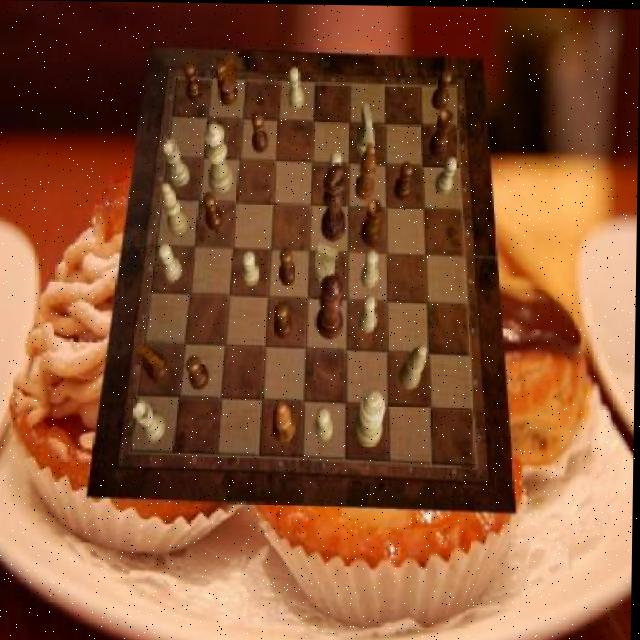bishop: (355, 143, 375, 201), (274, 399, 297, 443)
black-bishop: (320, 162, 346, 243)
black-king: (137, 342, 170, 382), (214, 53, 238, 106)
black-knight: (186, 354, 210, 389), (431, 70, 452, 110), (182, 62, 202, 104), (203, 192, 224, 230), (394, 161, 414, 200), (251, 111, 268, 152), (275, 302, 293, 338), (280, 248, 297, 286)
black-pawn: (317, 274, 344, 339)
black-queen: (430, 108, 454, 157), (359, 198, 382, 244)
black-rook: (161, 182, 189, 236), (399, 343, 427, 389)
white-bishop: (355, 387, 387, 446)
white-king: (314, 242, 337, 288), (355, 103, 374, 157)
white-knight: (158, 244, 182, 282), (435, 156, 457, 195), (360, 293, 378, 332), (287, 67, 304, 108), (362, 251, 380, 289), (316, 405, 335, 440), (324, 152, 341, 190), (242, 251, 260, 285)
white-pawn: (203, 121, 234, 195)
white-queen: (133, 400, 166, 442), (163, 139, 191, 187)
